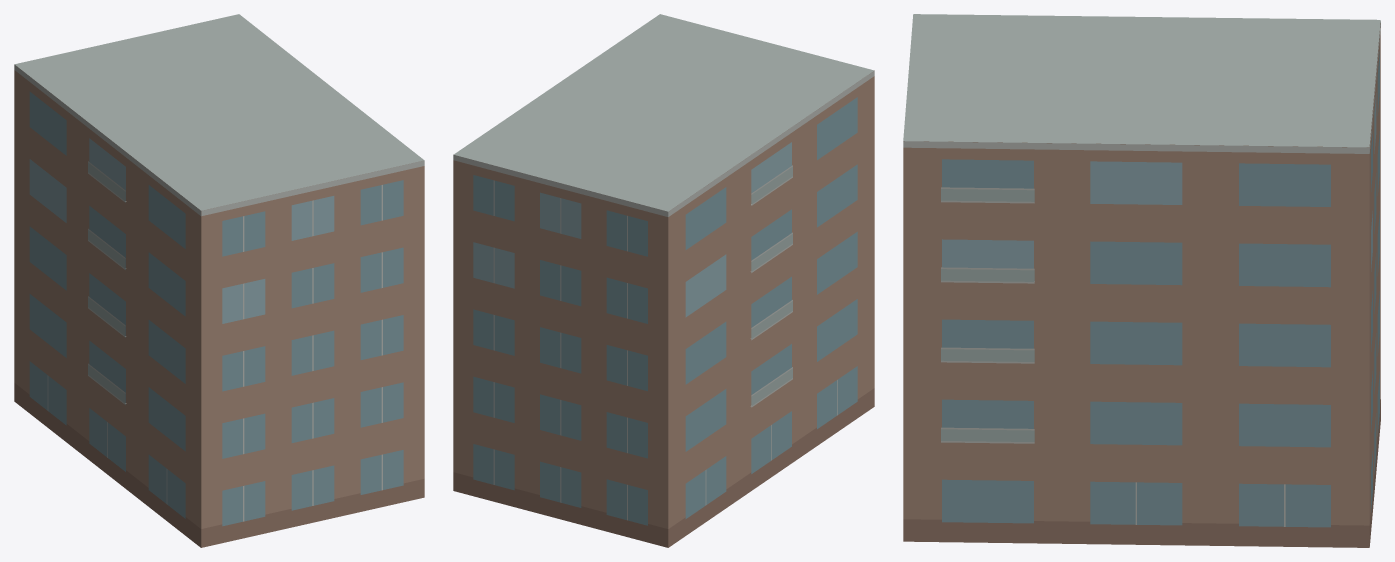
File: survey-upis-32565847.glb
3 views of the same model, side by side, from view 1: azimuth 30°, elevation 25°; view 2: azimuth 150°, elevation 25°; view 3: azimuth 270°, elevation 25° (orthographic). The views are drawn at different scales.
Visible parts, largest first — view 1: survey-upis-32565847.tmp; view 2: survey-upis-32565847.tmp; view 3: survey-upis-32565847.tmp.
Part boxes in pixels (x1,y1,x2,y2): survey-upis-32565847.tmp: [14, 14, 424, 547]; survey-upis-32565847.tmp: [453, 14, 874, 547]; survey-upis-32565847.tmp: [903, 14, 1380, 547].
Size of the model in its own units: 10.58 by 14.8 by 16.01.
